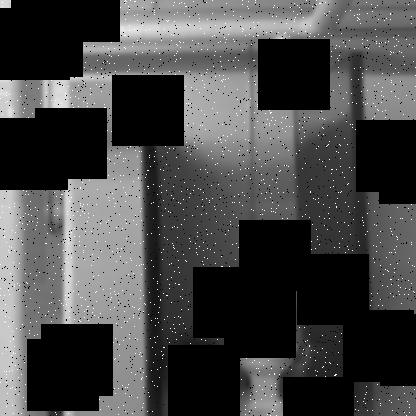Porte: (137, 49, 378, 415)
